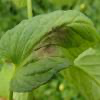Tomato leaf late blight: (0, 8, 99, 93)
